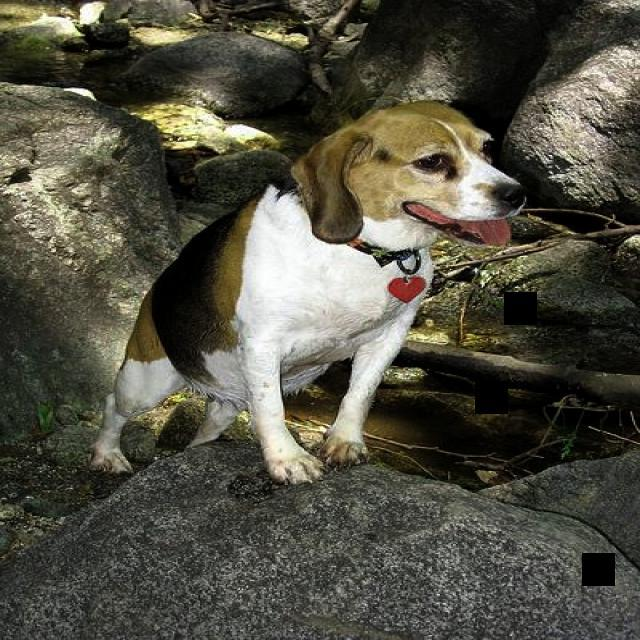adult_dog: (90, 101, 527, 486)
